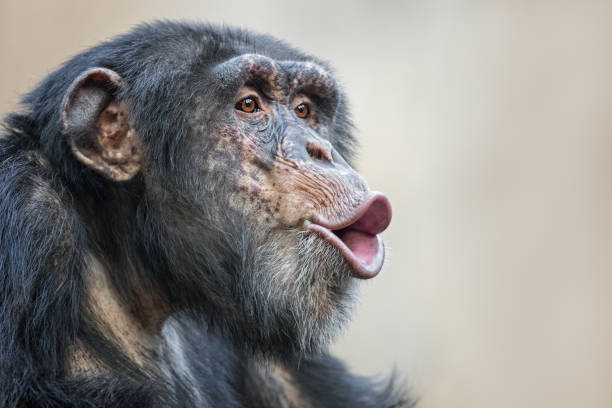chimpanzee: (11, 11, 457, 376)
